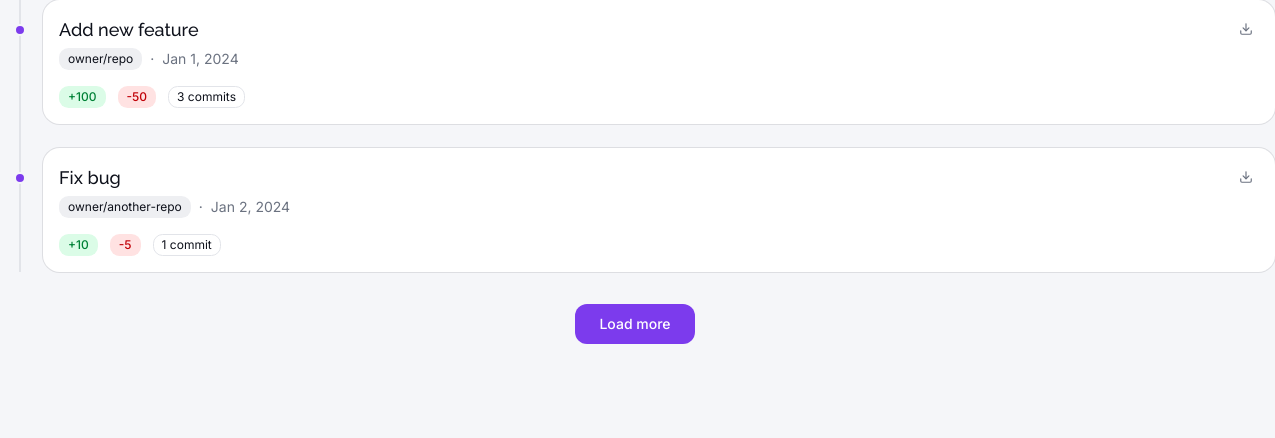
Scenario: FeedClient › should fetch and append more PRs when Load more is clicked
The image size is (1275, 438).
Click the button "Load more".
click(635, 324)  # box 575,304 -> 694,344
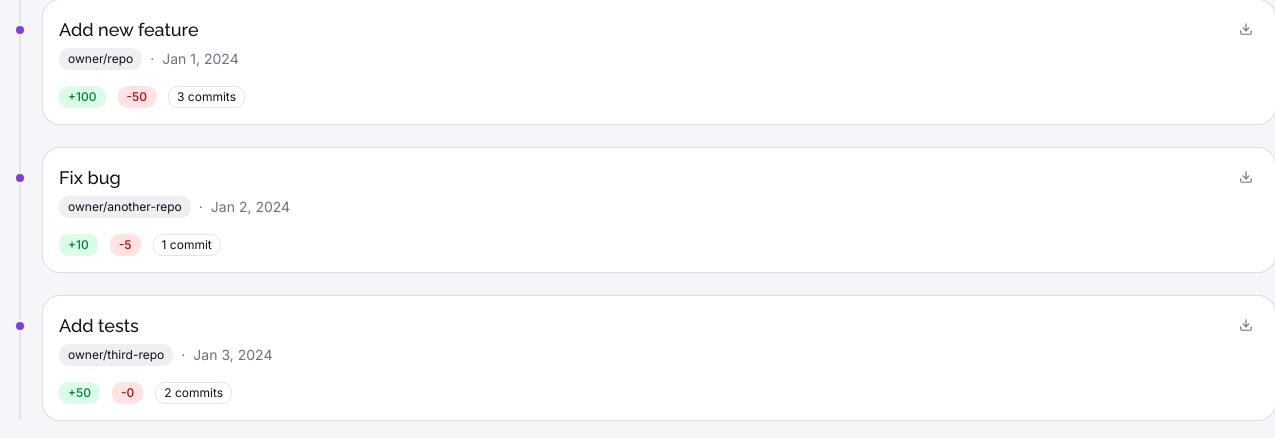
Expected: the link "Add new feature" is shown, 59,16 -> 219,44
Now the link "Add tests" is shown, box 59,315 -> 139,336
